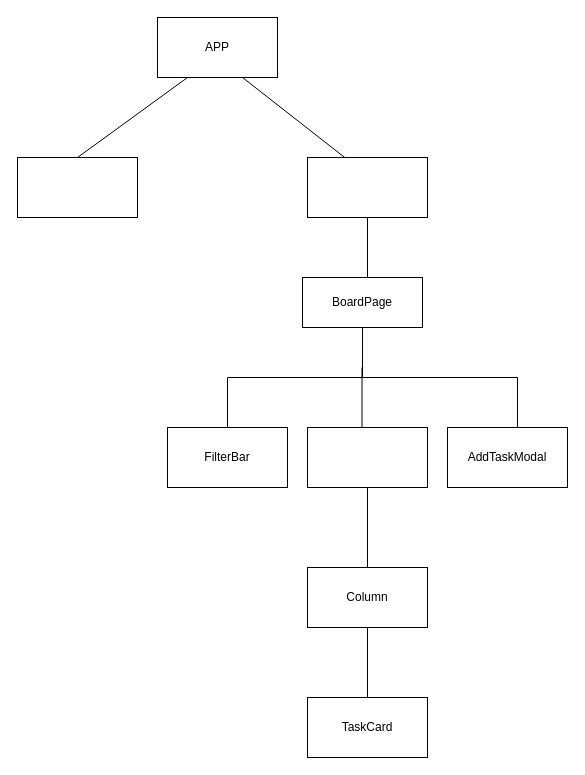
The diagram is 585 pixels wide and 775 high, and some of its shapes have lost their labels. The shapes that lost their labels are listed below. From the top down, each one's centre as x and y in pixels, then its label:
point 77,187: Navbar
point 367,187: Pages
point 367,457: ColumnList
